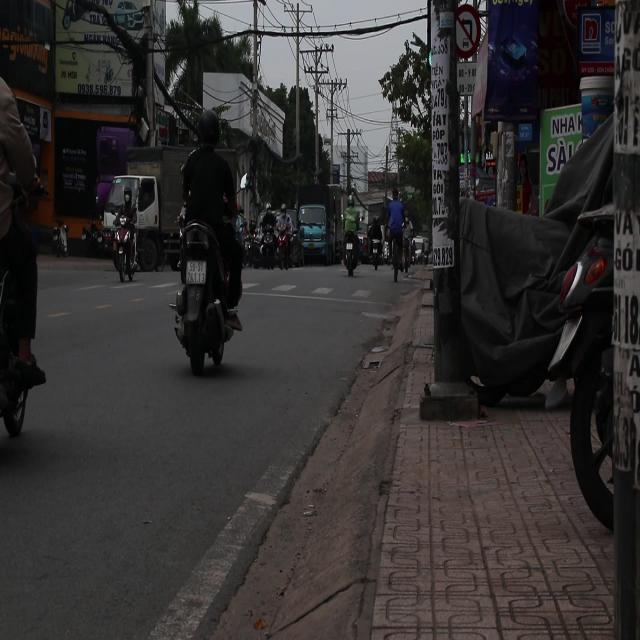motorbike: (0, 156, 47, 437), (169, 221, 236, 375), (112, 214, 140, 284), (341, 227, 366, 279), (259, 222, 280, 271), (368, 223, 388, 270)
truck: (296, 186, 341, 266)
